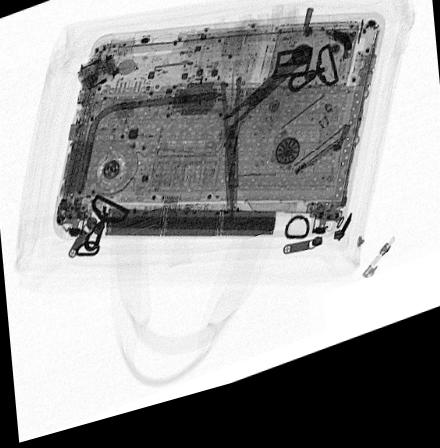Scissors: (196, 29, 263, 238)
